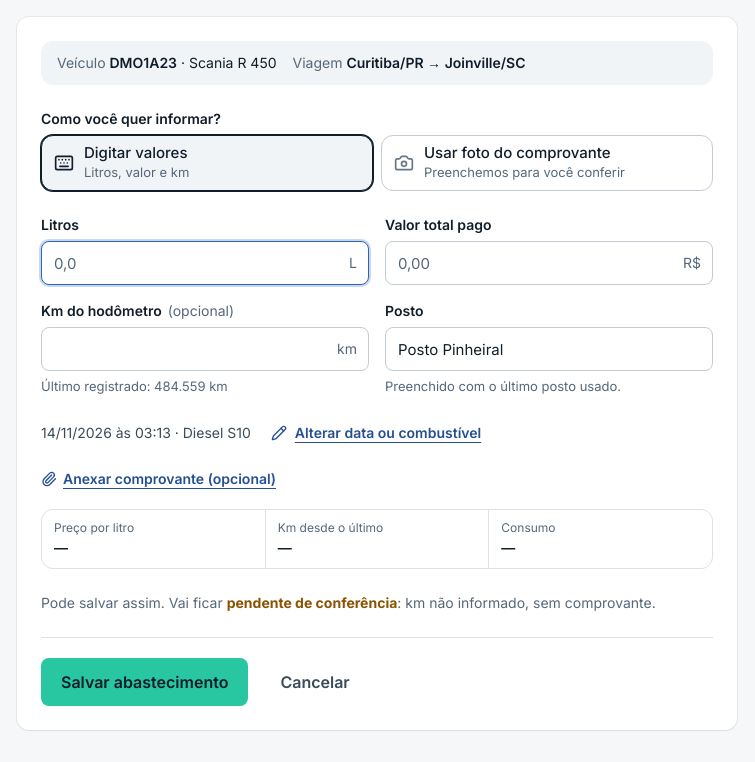
Scenario: Motorista › mostra erros simples e corrigíveis quando faltam valores
(page scrolled)
Step 1. Click the button "Salvar abastecimento" → (145, 682), box 41,658 -> 248,706
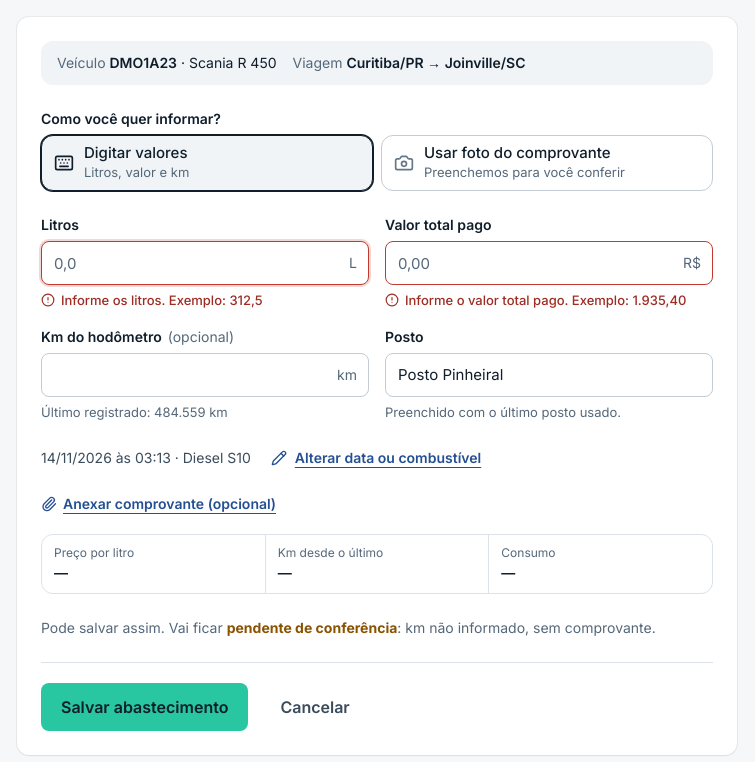
Expected: the text "Informe os litros. Exemplo: 312,5" is shown, 41,292 -> 263,308
Expected: the text "Informe o valor total pago. Exemplo: 1.935,40" is shown, 385,291 -> 713,311
